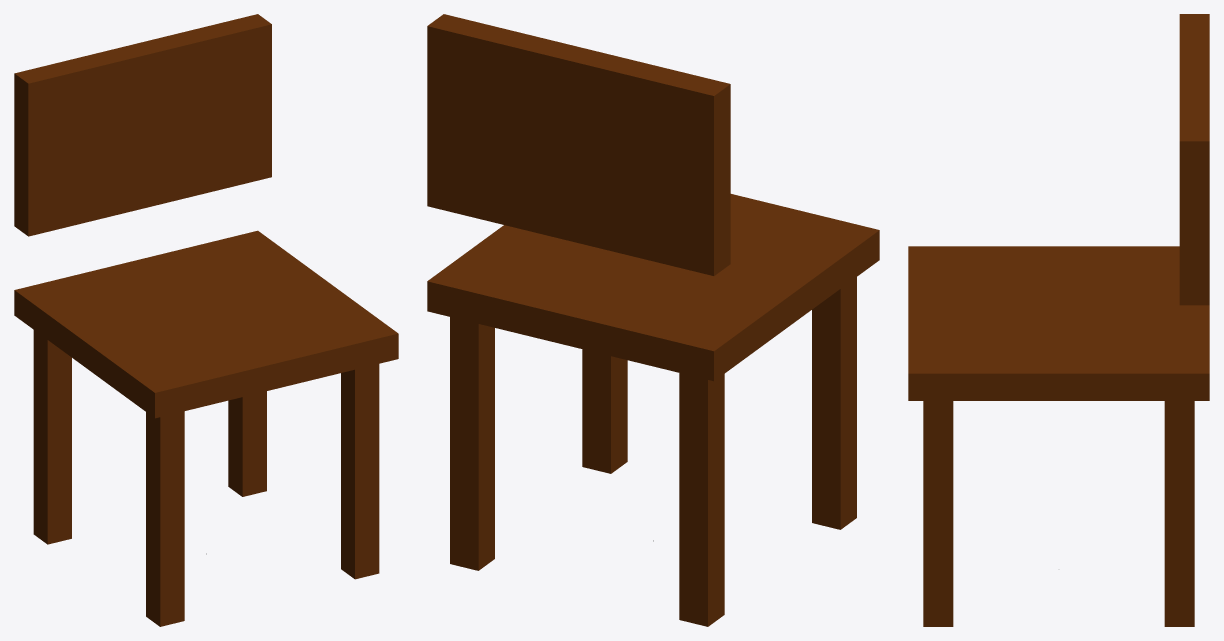
File: chair.glb
The picture shows the model from 3 angles, left to right: view 1: azimuth 30°, elevation 25°; view 2: azimuth 150°, elevation 25°; view 3: azimuth 270°, elevation 25°; orthographic projection. The views are drawn at different scales.
Parts seen in each view (by area): view 1: chair_seat, chair_back, chair_leg_fr, chair_leg_fl, chair_leg_br, chair_leg_bl; view 2: chair_back, chair_seat, chair_leg_br, chair_leg_bl, chair_leg_fr, chair_leg_fl; view 3: chair_seat, chair_back, chair_leg_fl, chair_leg_bl.
Boxes of the visible parts, x1,y1,x2,y2 form: chair_seat: [14, 230, 398, 418]; chair_back: [14, 14, 271, 236]; chair_leg_fr: [146, 411, 184, 626]; chair_leg_fl: [341, 364, 379, 579]; chair_leg_br: [33, 330, 71, 544]; chair_leg_bl: [228, 391, 266, 496]; chair_back: [427, 14, 730, 275]; chair_seat: [427, 194, 879, 381]; chair_leg_br: [679, 373, 724, 626]; chair_leg_bl: [450, 317, 494, 570]; chair_leg_fr: [812, 277, 856, 529]; chair_leg_fl: [582, 349, 627, 473]; chair_seat: [908, 246, 1209, 400]; chair_back: [1179, 14, 1209, 305]; chair_leg_fl: [923, 401, 953, 626]; chair_leg_bl: [1164, 401, 1194, 626].
Bounding box in the file's own units: 0.5 × 0.9005 × 0.5.
